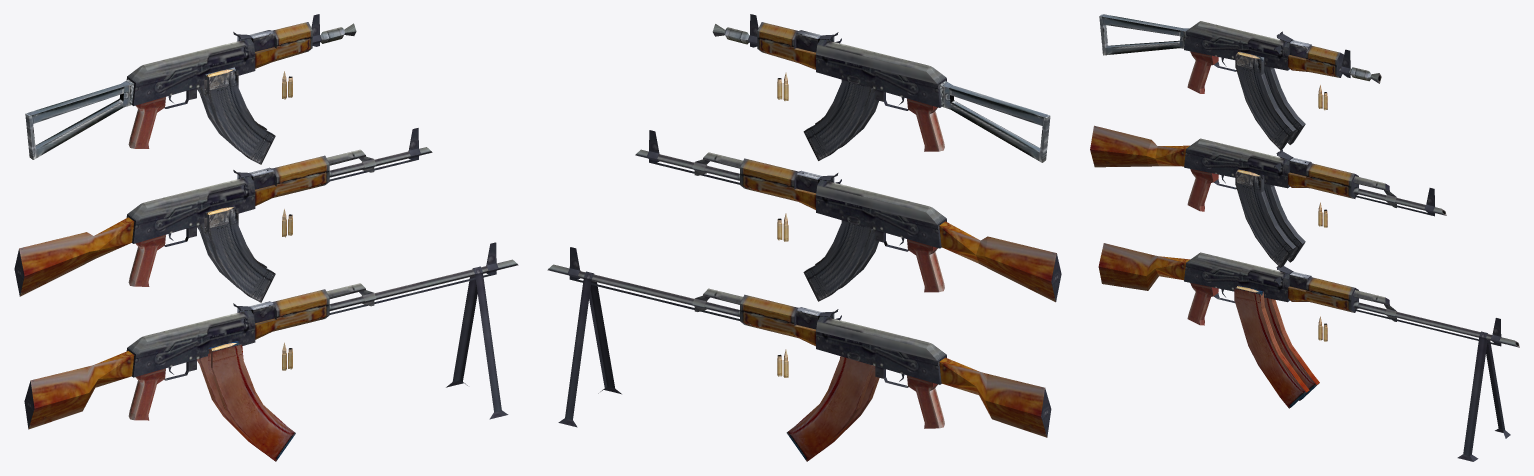
3 views of the same model, side by side, from view 1: azimuth 30°, elevation 25°; view 2: azimuth 150°, elevation 25°; view 3: azimuth 330°, elevation 25° (orthographic). The views are drawn at different scales.
Visible parts, largest first — view 1: RPK, AKM, AK74U, RPK_Mag_Full, AKM_Mag_Full, AK74U_Mag_Full, RPK_Mag_Empty; view 2: RPK, AKM, AK74U, RPK_Mag_Empty, AKM_Mag_Empty, AK74U_Mag_Empty, RPK_Mag_Full; view 3: RPK, AKM, AK74U, RPK_Mag_Full, AK74U_Mag_Full, AKM_Mag_Full, RPK_Mag_Empty, AK74U_Mag_Empty, AKM_Mag_Empty.
Boxes of the visible parts, <box> form: RPK: <box>24,242,518,429</box>; AKM: <box>14,128,432,296</box>; AK74U: <box>25,14,356,159</box>; RPK_Mag_Full: <box>208,341,295,461</box>; AKM_Mag_Full: <box>204,205,275,302</box>; AK74U_Mag_Full: <box>204,67,275,164</box>; RPK_Mag_Empty: <box>197,356,261,451</box>; RPK: <box>547,247,1051,437</box>; AKM: <box>635,130,1061,302</box>; AK74U: <box>712,14,1050,162</box>; RPK_Mag_Empty: <box>786,356,875,461</box>; AKM_Mag_Empty: <box>803,220,875,301</box>; AK74U_Mag_Empty: <box>803,80,875,160</box>; RPK_Mag_Full: <box>819,368,879,452</box>; RPK: <box>1098,243,1519,461</box>; AKM: <box>1090,125,1446,216</box>; AK74U: <box>1099,14,1381,93</box>; RPK_Mag_Full: <box>1234,285,1309,408</box>; AK74U_Mag_Full: <box>1235,51,1295,150</box>; AKM_Mag_Full: <box>1235,169,1295,267</box>; RPK_Mag_Empty: <box>1264,297,1319,400</box>; AK74U_Mag_Empty: <box>1264,66,1305,144</box>; AKM_Mag_Empty: <box>1264,183,1305,262</box>.
Size of the model in its own units: 5.41 by 4.41 by 0.8238.
